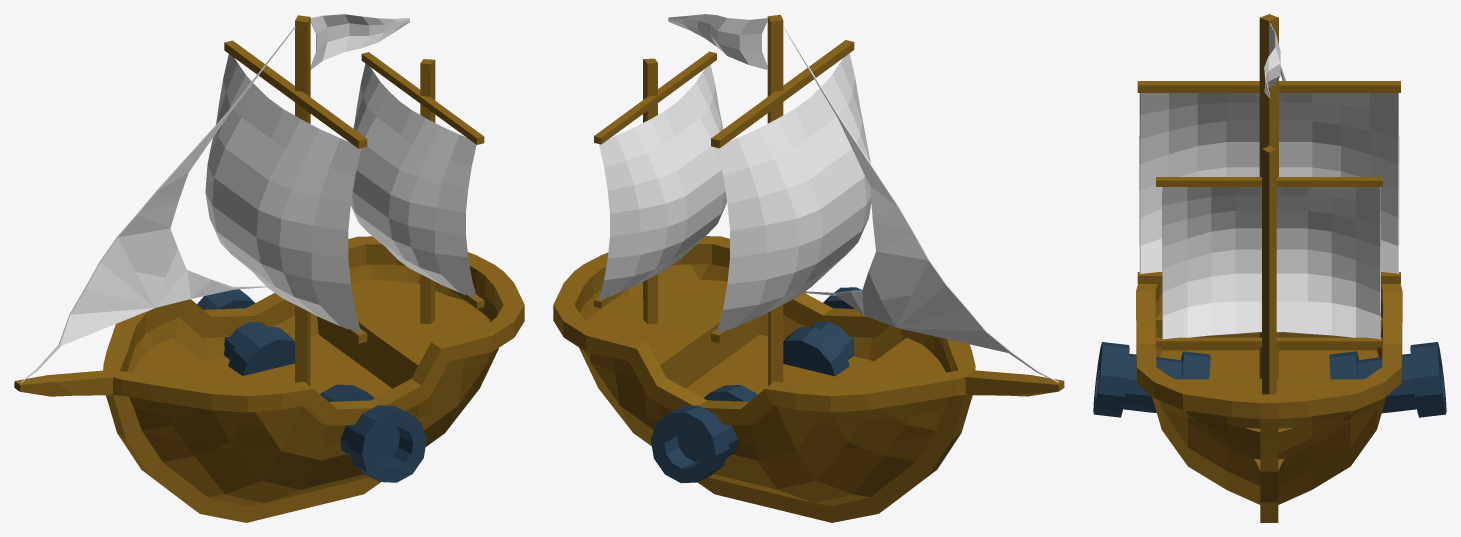
File: boat.fbx
3 views of the same model, side by side, from view 1: azimuth 30°, elevation 25°; view 2: azimuth 150°, elevation 25°; view 3: azimuth 270°, elevation 25° (orthographic). The views are drawn at different scales.
Parts seen in each view (by area): view 1: Bateau, Voile, PVoile, DVoile, Canon.001, Canon, Drapeau; view 2: Bateau, Voile, PVoile, DVoile, Canon, Canon.001, Drapeau; view 3: Bateau, PVoile, Voile, Canon, Canon.001, Drapeau.
Boxes of the visible parts, x1=… form: Bateau: x1=14, y1=15, x2=524, y2=522; Voile: x1=205, y1=54, x2=361, y2=333; PVoile: x1=350, y1=63, x2=476, y2=298; DVoile: x1=20, y1=26, x2=295, y2=382; Canon.001: x1=320, y1=384, x2=426, y2=482; Canon: x1=197, y1=289, x2=294, y2=375; Drapeau: x1=310, y1=14, x2=409, y2=69; Bateau: x1=553, y1=14, x2=1064, y2=522; Voile: x1=717, y1=53, x2=871, y2=333; PVoile: x1=599, y1=65, x2=726, y2=300; DVoile: x1=783, y1=25, x2=1058, y2=382; Canon: x1=650, y1=385, x2=757, y2=483; Canon.001: x1=783, y1=287, x2=862, y2=376; Drapeau: x1=668, y1=14, x2=767, y2=69; Bateau: x1=1136, y1=14, x2=1402, y2=522; PVoile: x1=1162, y1=187, x2=1380, y2=339; Voile: x1=1139, y1=93, x2=1399, y2=273; Canon: x1=1329, y1=342, x2=1446, y2=417; Canon.001: x1=1093, y1=342, x2=1210, y2=417; Drapeau: x1=1264, y1=23, x2=1280, y2=97.
Bounding box in the file's own units: 977 × 940 × 632.
